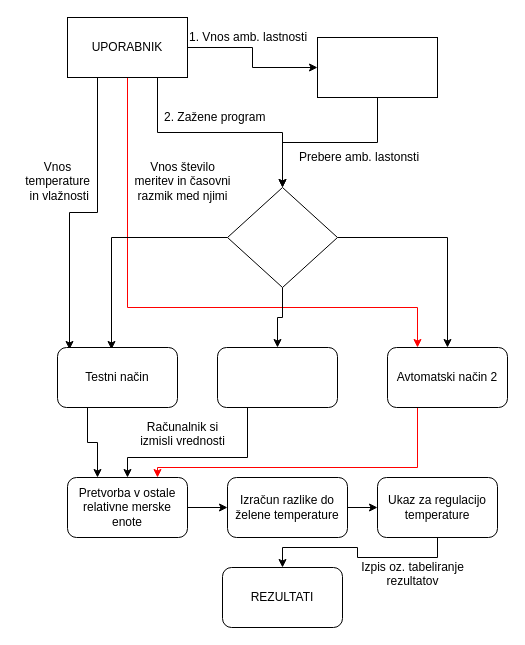
The diagram is 525 pixels wide and 645 high, and some of its shapes have lost their labels. Each missing label, with the centre of its shape:
"Avtomatski način 1" belongs at (x=277, y=377).
"DATOTEKA Z ABIENTALNIMI LASTNOSTI" belongs at (x=377, y=67).
"PROGRAM" belongs at (x=282, y=237).
